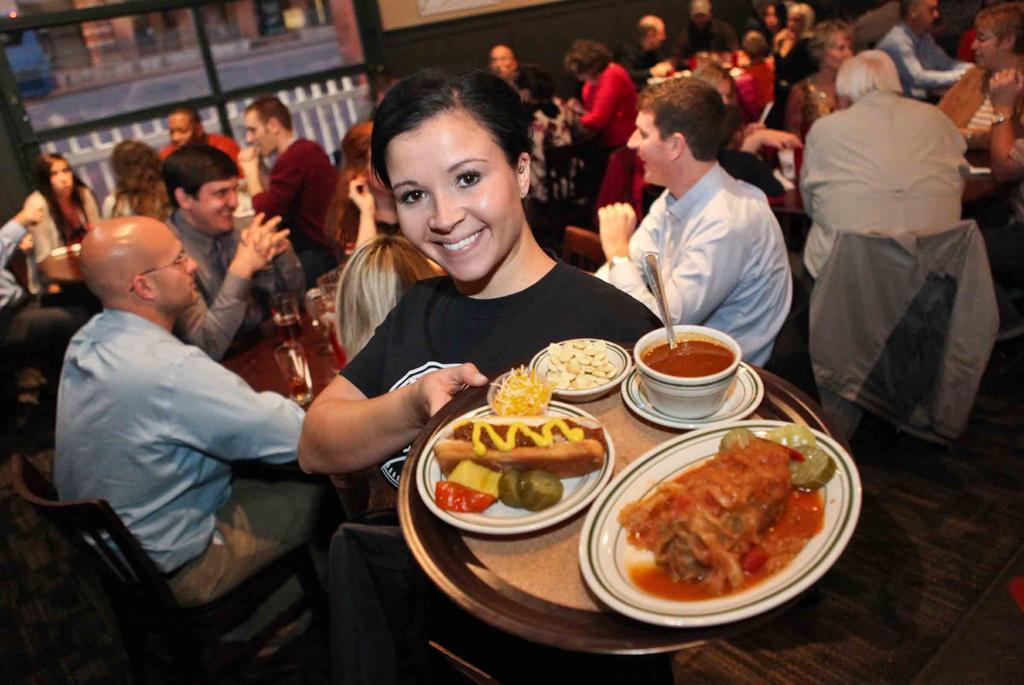face: (391, 131, 516, 282), (627, 113, 669, 183), (159, 233, 199, 305), (192, 182, 238, 233), (365, 142, 406, 191), (971, 26, 997, 72), (704, 83, 733, 120), (245, 119, 268, 157), (49, 166, 74, 196), (171, 119, 192, 153), (828, 35, 848, 69), (490, 51, 511, 79), (788, 12, 806, 39), (920, 1, 936, 30), (654, 26, 664, 50), (763, 8, 775, 27), (577, 65, 588, 84), (695, 9, 706, 26)
